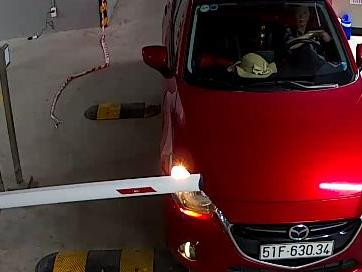car: (260, 241, 334, 259)
